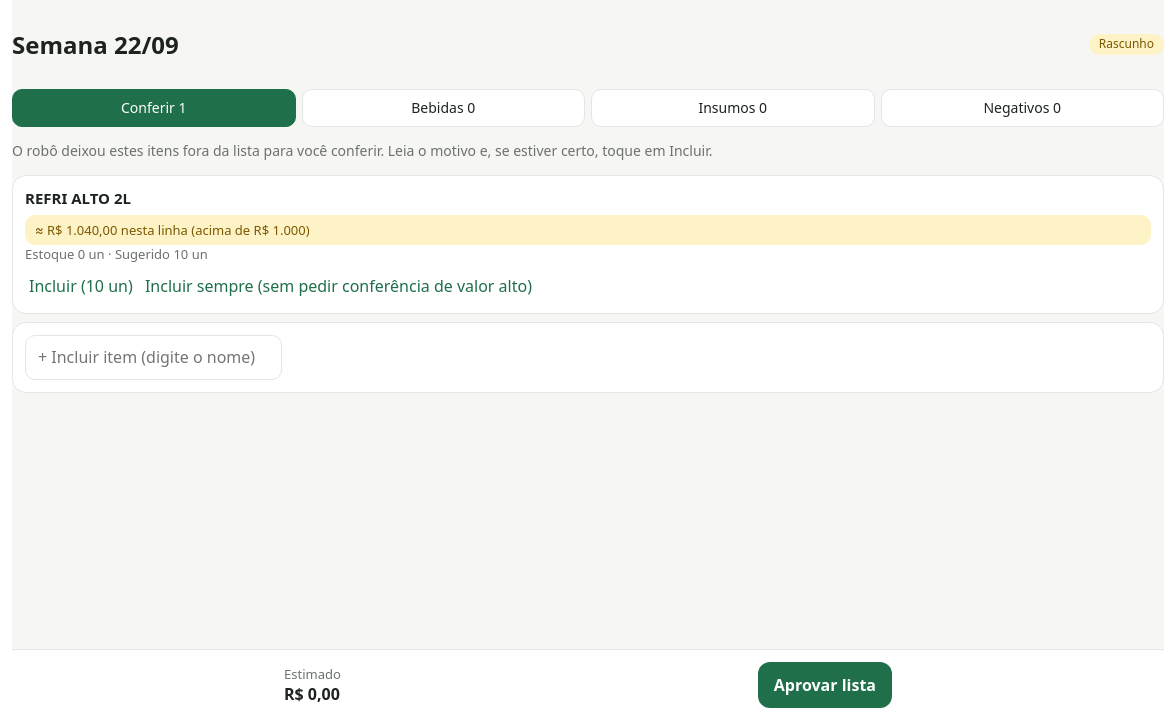
Revisão — regras da lista (C2) › o cartão cujo único selo é linha_alta ganha "Incluir sempre" e cria a regra de incluir
Step 1. Click the button "Incluir sempre (sem pedir conferência de valor alto)" → (338, 286), box [141, 271, 536, 301]
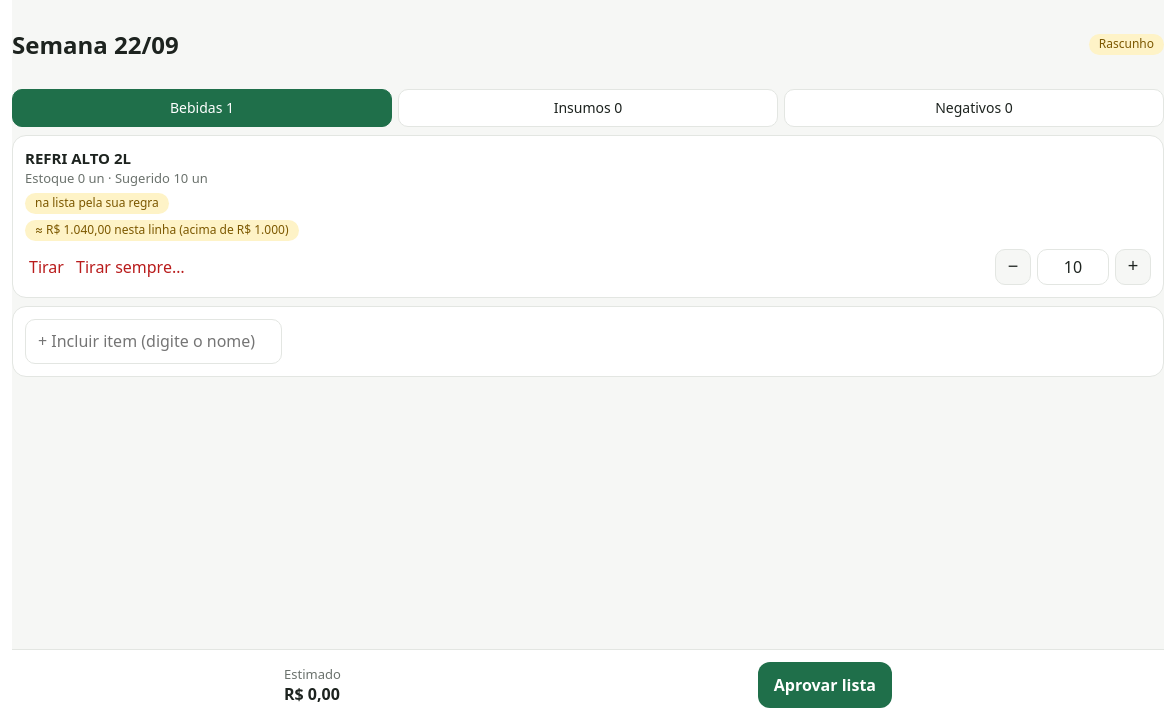
Check: the text "na lista pela sua regra" is shown, box [25, 193, 169, 214]
